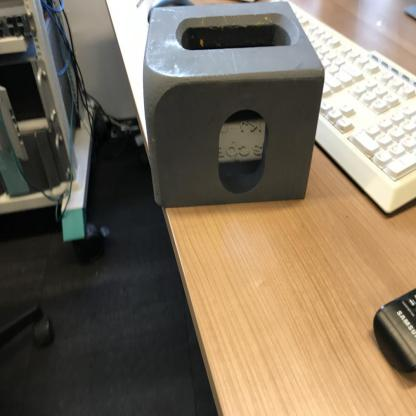CornerCasting: (140, 0, 328, 216)
